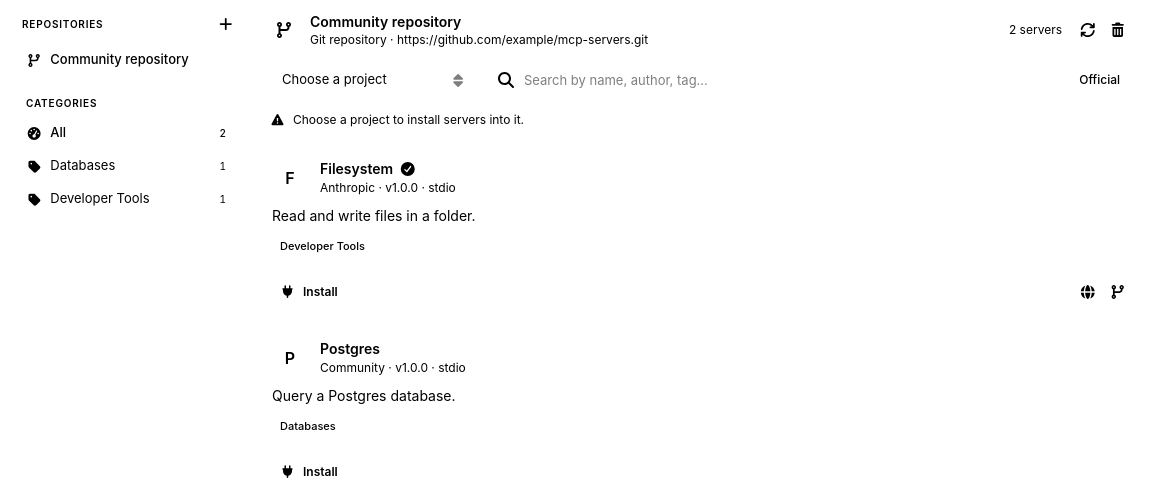
Scenario: McpPage catalogue › filters by category and by the official badge
Check: the text "Filesystem" is shown, box [320,160,393,178]
Categories are rows in the sidebar, and each one says how many servers it holds.
What coordinates should you click on to do the following:
click the button "Databases 1"
I would click on:
 (128, 166)
Its box is [16,150,240,182].
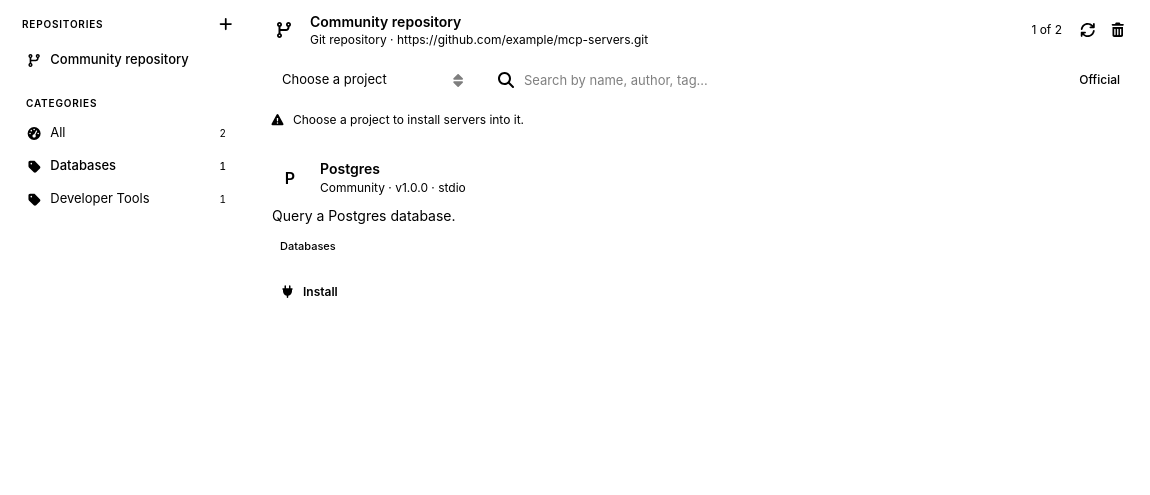
Check: the text "Filesystem" is gone
What coordinates should you click on to do the following:
click the button "All 2"
I would click on:
 (128, 133)
Its box is [16,117,240,149].
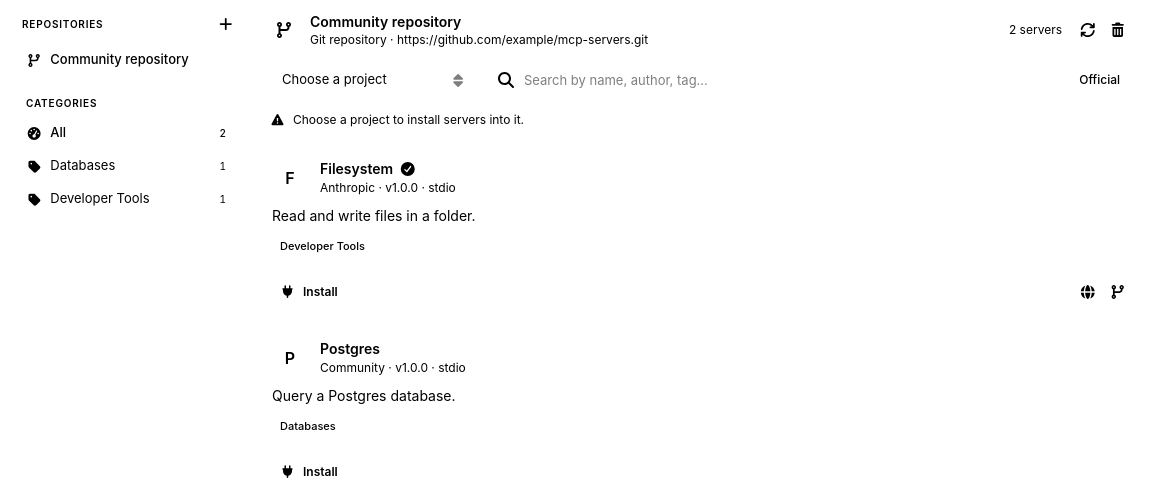
What coordinates should you click on to do the following:
click the button "Official"
I would click on:
 (1100, 80)
Its box is [1067,66,1132,94].
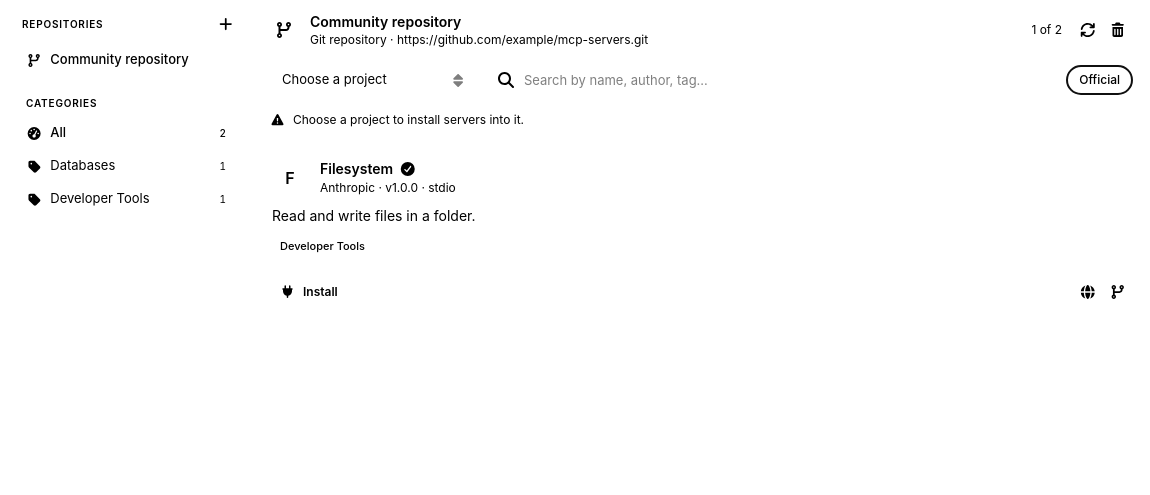
Check: the text "Filesystem" is shown, box [320,160,393,178]
Check: the text "Postgres" is gone
